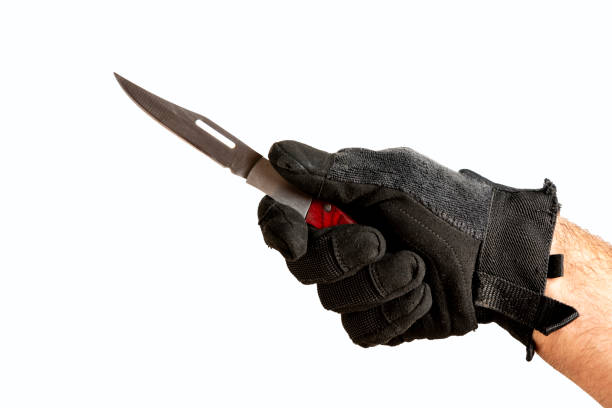knife: (112, 70, 356, 229)
